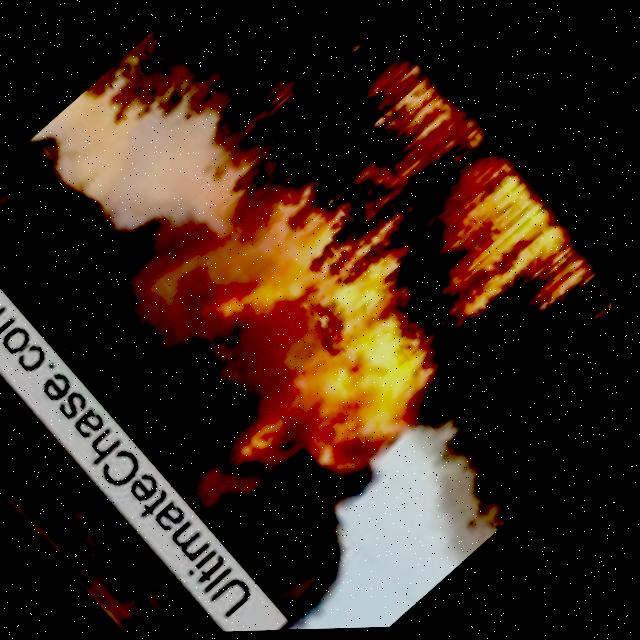Fire: (101, 45, 613, 531)
Smoke: (0, 128, 431, 639), (0, 254, 292, 640)
